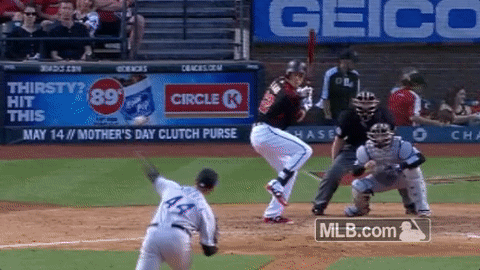geico: (263, 1, 479, 42)
